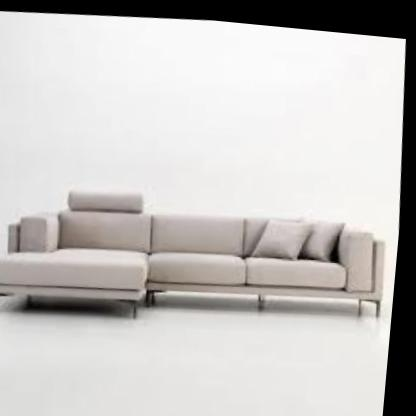Sofa: (0, 157, 405, 377)
